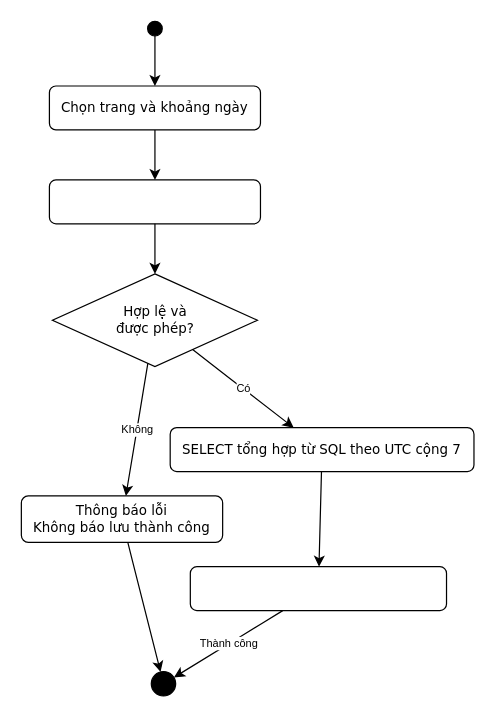
Image size: 495x717. Some labels were removed from this diagram. The centre of each missing label's shape, as x and y in pixels:
"Hiển thị KPI biểu đồ và dữ liệu mới" goes at (318,588).
"Xác thực Admin và tham số" goes at (154,201).
